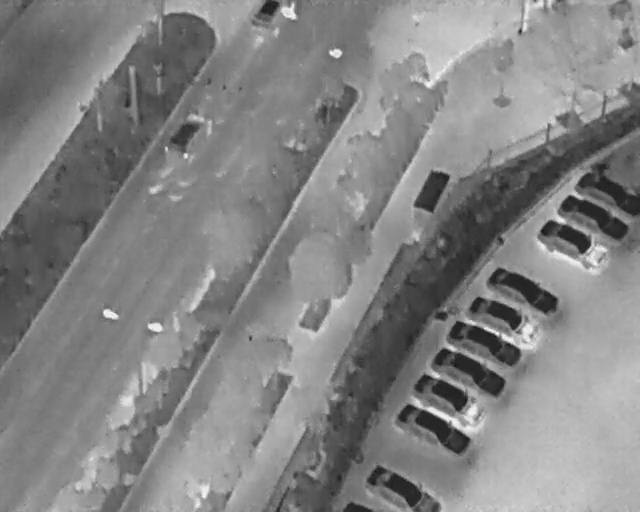Car: (530, 209, 615, 278), (405, 363, 491, 431), (392, 396, 476, 462), (427, 338, 512, 403), (482, 258, 565, 321), (553, 186, 635, 249), (443, 313, 529, 373), (463, 286, 544, 347), (366, 462, 444, 511), (574, 163, 639, 215), (253, 0, 279, 23)
OtherVehicle: (161, 105, 215, 165)
